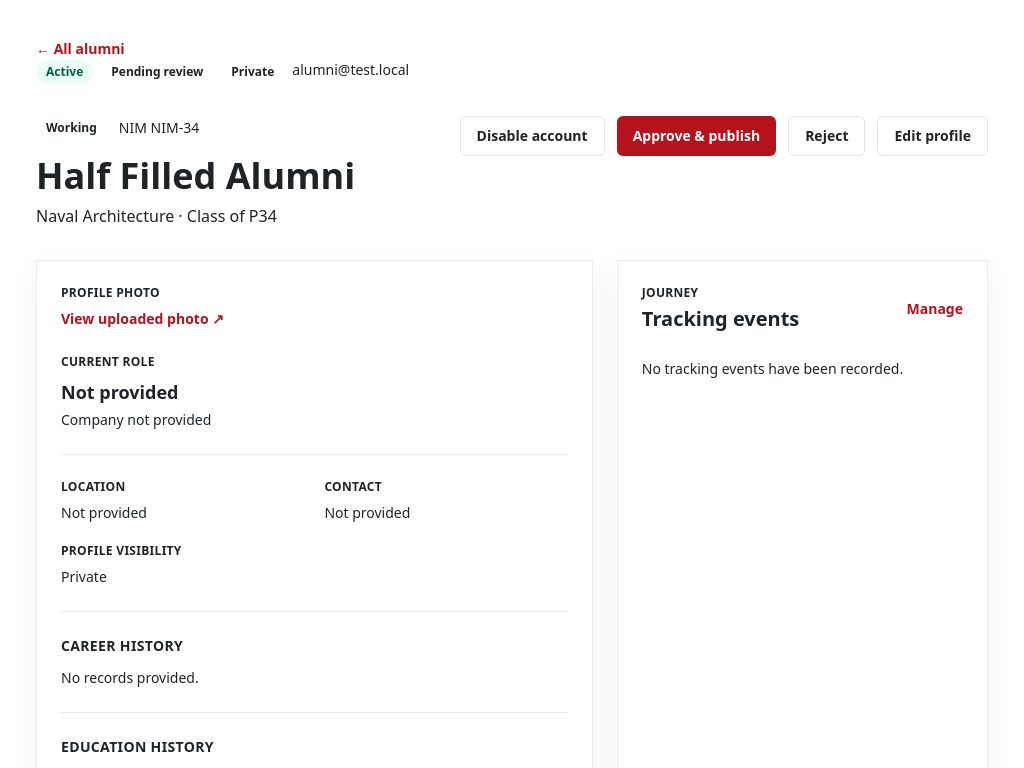
Test case: Reject alumni modal › does not open the modal when cancelling
Click the button "Reject" at [827, 136], box left=788, top=116, right=865, bottom=156
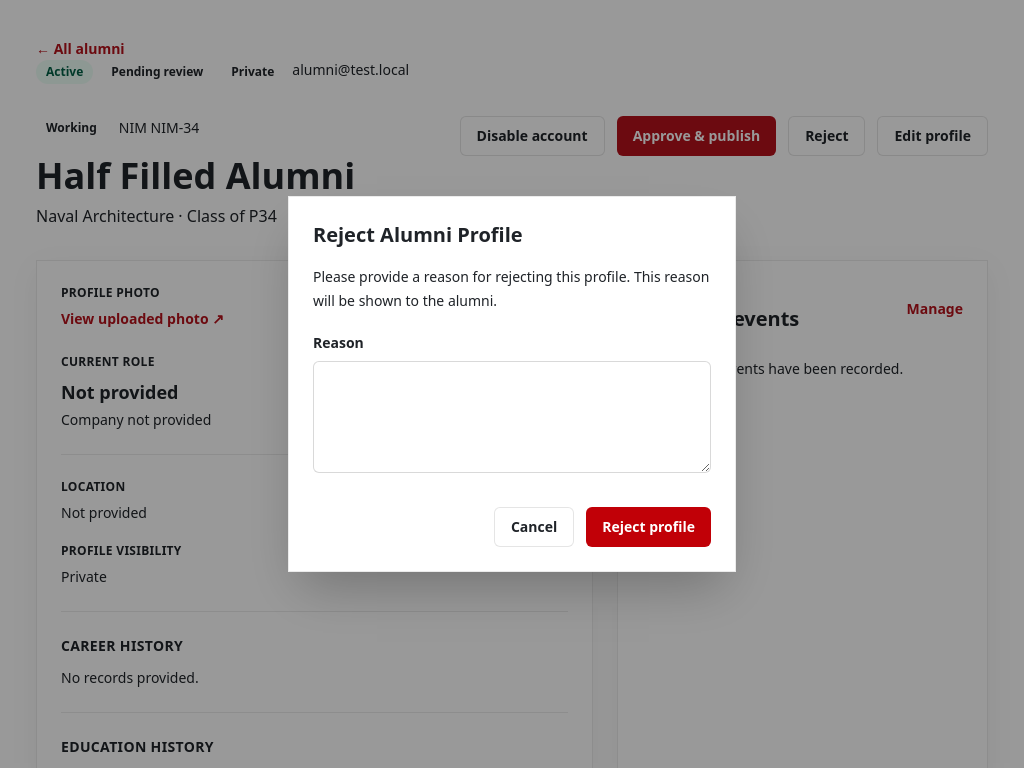
Click the button "Cancel" at [534, 527], box left=494, top=507, right=574, bottom=547
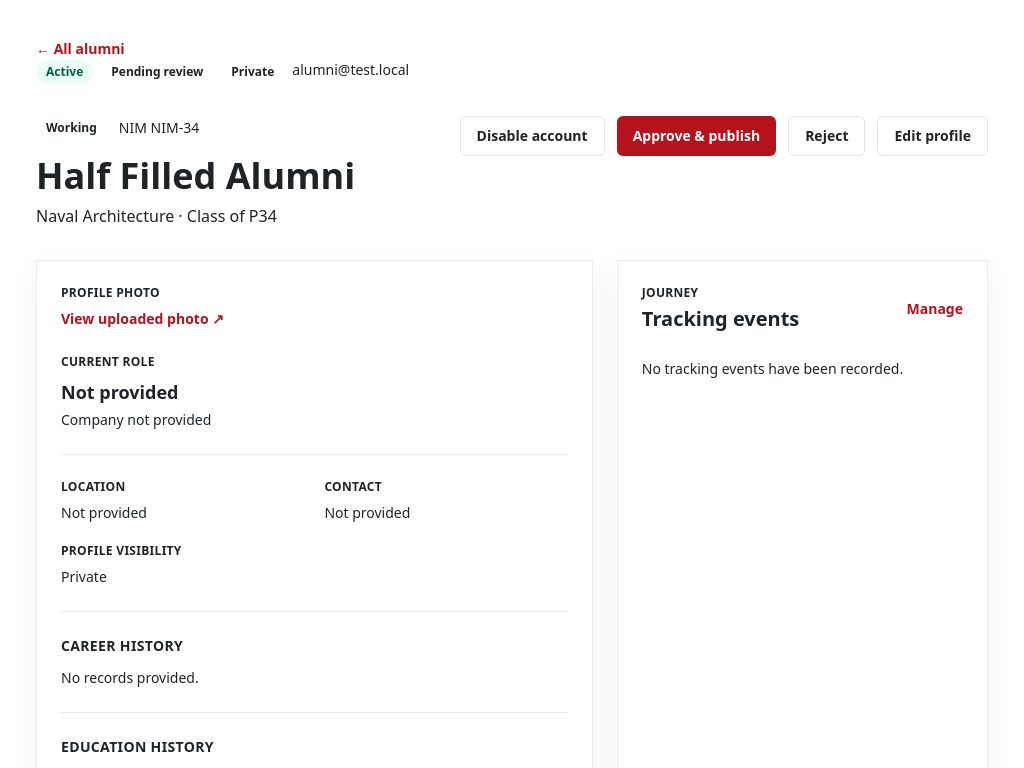
Result: the dialog is gone
